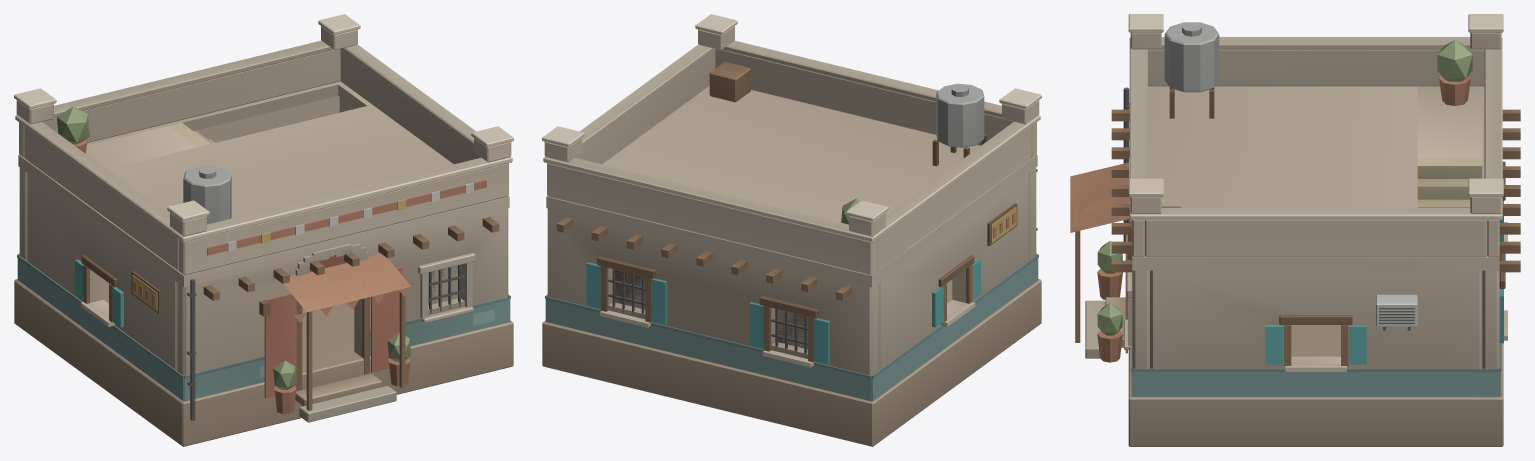
Rendered from house_1.glb.
3 views of the same model, side by side, from view 1: azimuth 30°, elevation 25°; view 2: azimuth 150°, elevation 25°; view 3: azimuth 270°, elevation 25° (orthographic). The views are drawn at different scales.
Parts seen in each view (by area): view 1: house_1; view 2: house_1; view 3: house_1.
Part boxes in pixels (box(x1,y1,x2,y2)): house_1: box(14, 14, 513, 446); house_1: box(542, 14, 1041, 446); house_1: box(1070, 14, 1520, 446).
Size of the model in its own units: 9.04 by 6 by 9.07.
